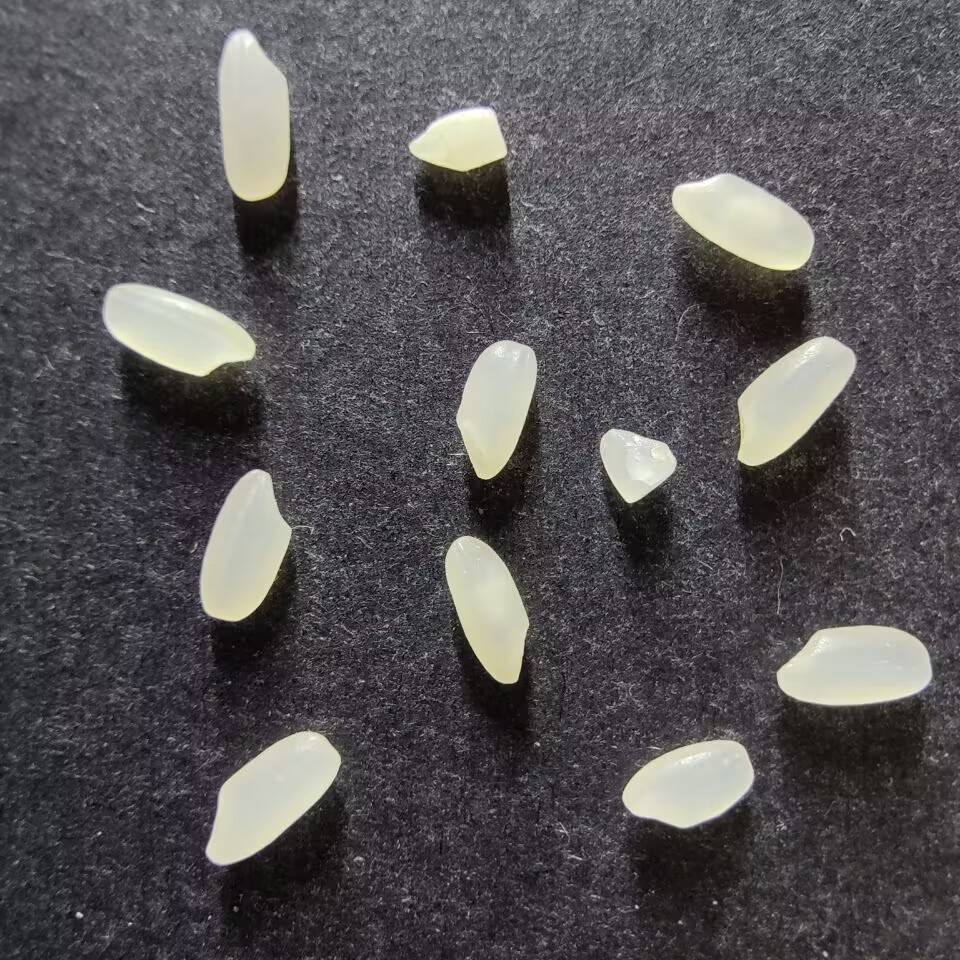broken: (407, 106, 507, 172), (598, 427, 678, 504)
rice: (204, 730, 341, 866), (735, 335, 856, 466), (101, 283, 256, 377), (198, 468, 291, 622), (670, 172, 813, 272), (775, 624, 933, 707), (217, 28, 292, 202), (444, 535, 529, 685), (621, 738, 755, 829), (454, 339, 537, 480)
